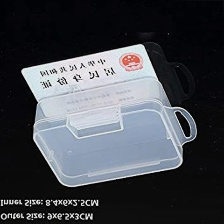plastic_box: (25, 71, 202, 193)
